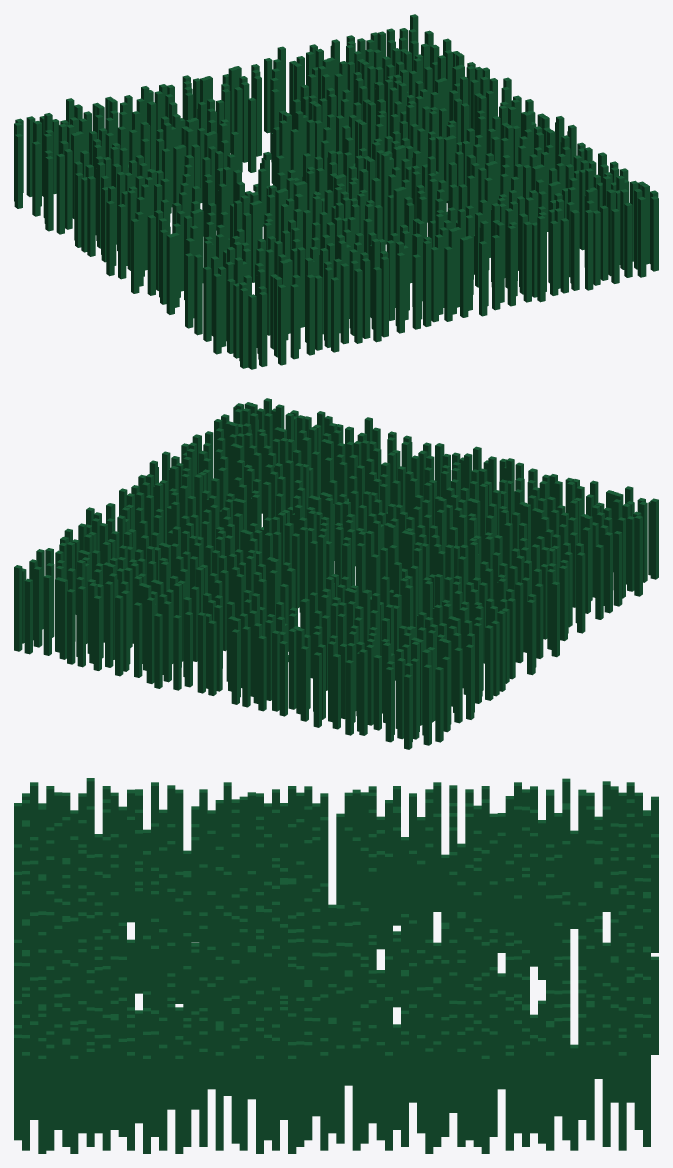
The model's file is grass_6_overtile.obj.
The picture shows the model from 3 angles, top to bottom: view 1: azimuth 30°, elevation 25°; view 2: azimuth 150°, elevation 25°; view 3: azimuth 270°, elevation 25°; orthographic projection. The views are drawn at different scales.
Bounding box in the file's own units: 8 × 1.6 × 8.
Materials: 1 (1 with a texture image).
